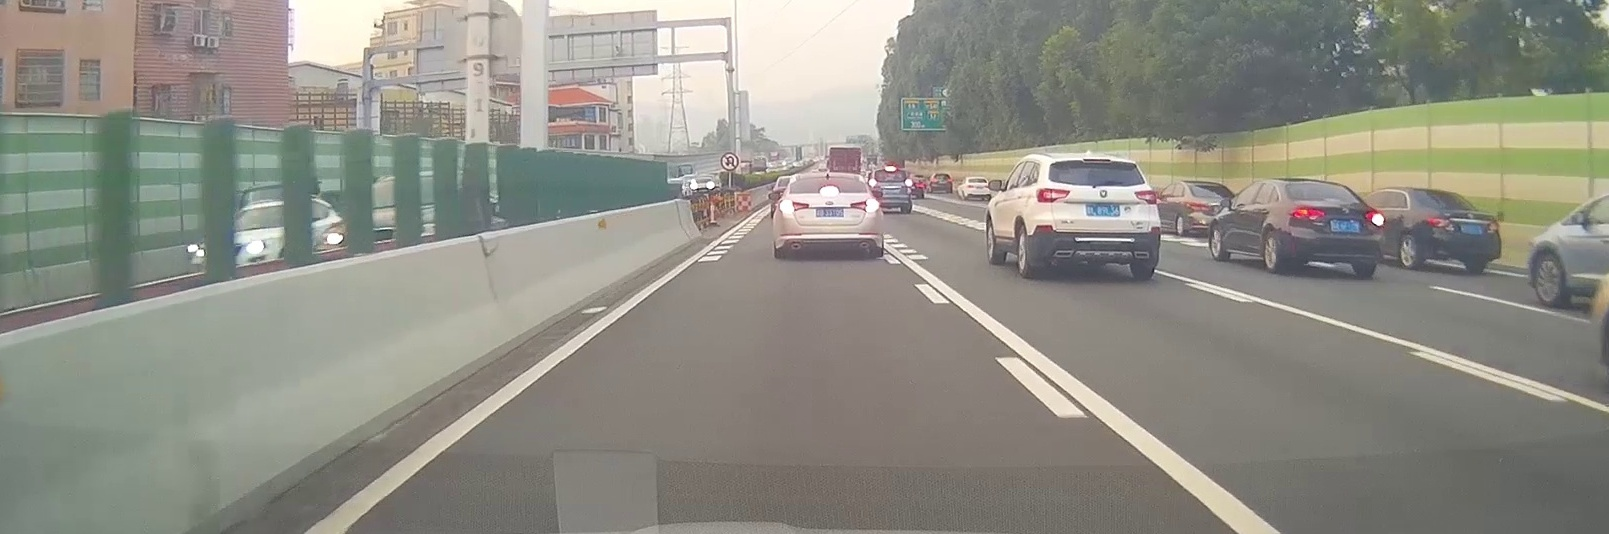L_light: (1037, 189, 1070, 203), (1291, 208, 1324, 223), (779, 200, 809, 212), (1428, 218, 1454, 230)
R_light: (851, 199, 880, 213), (1134, 190, 1157, 204), (1364, 211, 1384, 226), (1487, 221, 1499, 233)
T_light: (819, 186, 839, 193), (1083, 158, 1111, 163), (1323, 197, 1341, 202), (1430, 193, 1442, 196)
day-brake: (774, 171, 884, 257)
day-no: (1036, 153, 1161, 278), (1410, 188, 1502, 273)
day-right: (1285, 178, 1386, 276)
